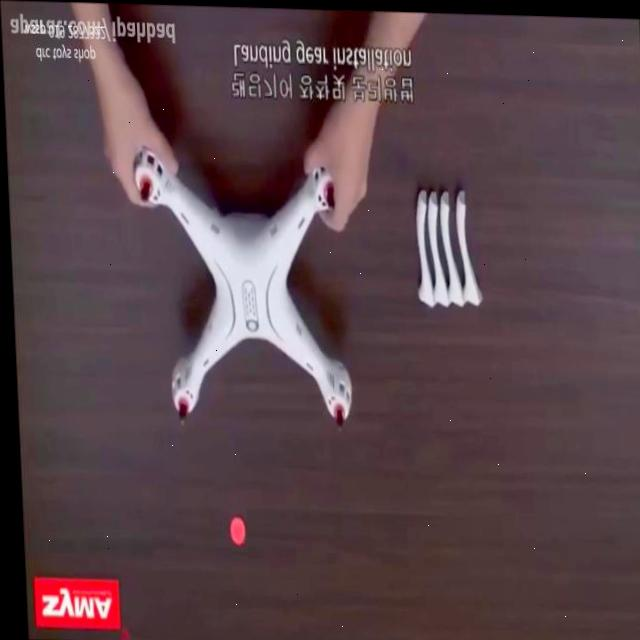drone: (125, 146, 356, 437)
